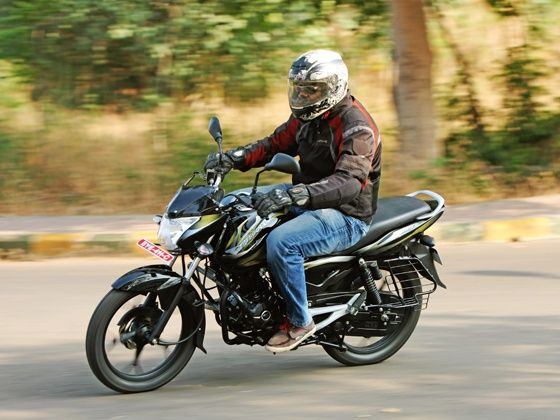helmet: (285, 48, 350, 118)
